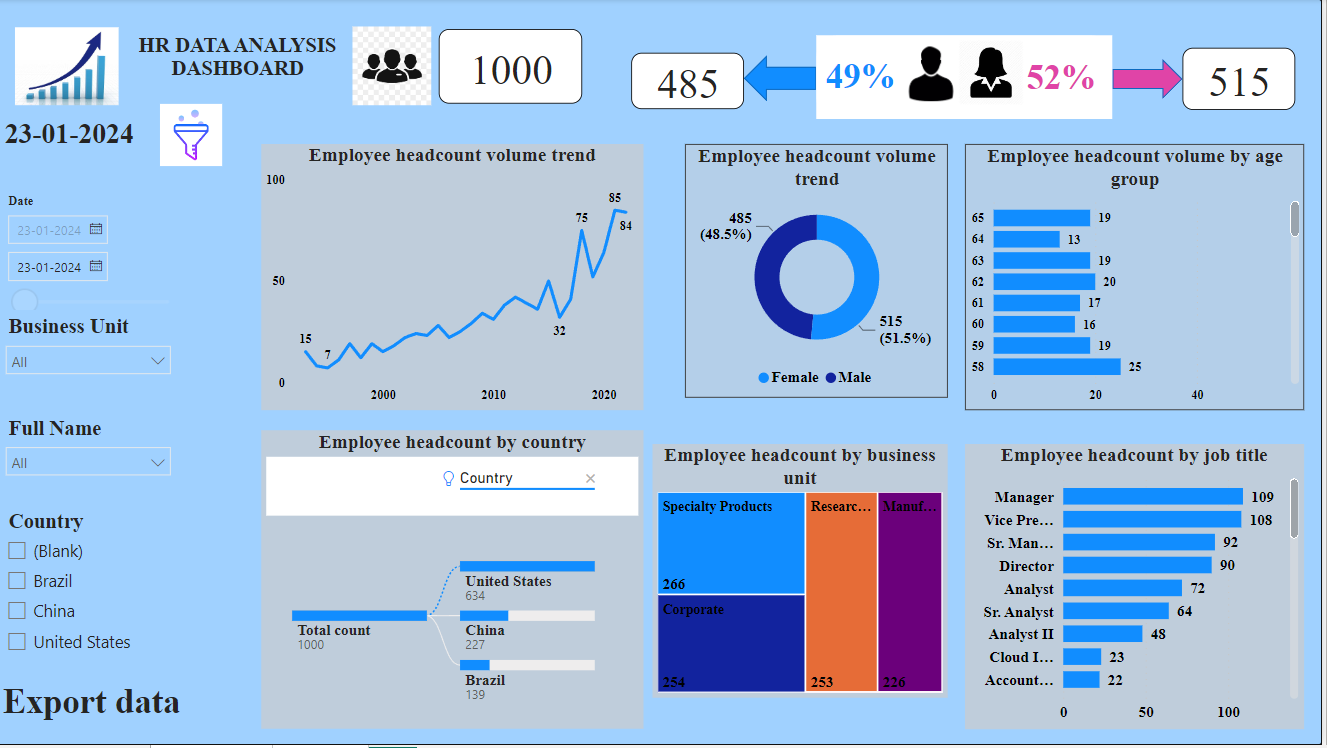

Layout of this report page (visuals, bound fields, positions):
{"tool":"powerbi","page":{"name":"hr analysis","canvas":[1280,720],"ordinal":0},"visuals":[{"type":"card","fields":{"Values":["Employee Data.total_count"]},"box":[428.1,28.9,138.7,72.4],"z":0},{"type":"image","box":[340.1,21.7,85.6,85.6],"z":1000},{"type":"lineChart","title":"Employee headcount volume trend","fields":{"Category":["Employee Data.Hire Date.Variation.Date Hierarchy.Year"],"Y":["CountNonNull(Employee Data.Employee ID)"]},"box":[256.9,139.9,369,256.9],"z":2000},{"type":"donutChart","title":"Employee headcount volume trend","fields":{"Category":["Employee Data.Gender"],"Y":["CountNonNull(Employee Data.Employee ID)"]},"box":[665.7,139.9,253.3,244.8],"z":3000},{"type":"clusteredBarChart","title":"Employee headcount volume by age group","fields":{"Category":["Employee Data.Age"],"Y":["CountNonNull(Employee Data.Employee ID)"]},"box":[935.9,139.9,326.8,256.9],"z":4000},{"type":"decompositionTreeVisual","title":"Employee headcount  by country","fields":{"Analyze":["CountNonNull(Employee Data.Country)"],"ExplainBy":["Employee Data.Country"]},"box":[256.9,416.1,369,288.2],"z":5000},{"type":"treemap","title":"Employee headcount  by business unit","fields":{"Group":["Employee Data.Business Unit"],"Values":["CountNonNull(Employee Data.Employee ID)"]},"box":[634.4,429.3,284.6,244.8],"z":6000},{"type":"clusteredBarChart","title":"Employee headcount  by job title","fields":{"Category":["Employee Data.Job Title"],"Y":["CountNonNull(Employee Data.Employee ID)"]},"box":[935.9,429.3,326.8,275],"z":7000},{"type":"shape","box":[792.4,35,285.8,80.8],"z":8000},{"type":"image","box":[869.5,41,66.3,62.7],"z":9000},{"type":"image","box":[925,32.6,72.4,77.2],"z":10000},{"type":"card","fields":{"Values":["Employee Data.total_male_count"]},"box":[613.9,51.9,108.5,54.3],"z":11000},{"type":"card","fields":{"Values":["Employee Data.Total_female_count"]},"box":[1145.7,47,108.5,60.3],"z":12000},{"type":"card","fields":{"Values":["Employee Data.male%"]},"box":[789.9,45.8,90.5,55.5],"z":13000},{"type":"card","fields":{"Values":["Employee Data.female%"]},"box":[979.3,51.9,98.9,45.8],"z":14000},{"type":"shape","title":"HR DATA ANALYSIS DASHBOARD","box":[113.4,33.8,241.2,54.3],"z":15000},{"type":"image","box":[14.5,12.1,109.7,106.1],"z":16000},{"type":"shape","box":[722.4,54.3,69.9,44.6],"z":17000},{"type":"shape","box":[1078.2,57.9,67.5,38.6],"z":18000},{"type":"slicer","fields":{"Values":["Employee Data.Business Unit"]},"box":[0,300.3,179.7,84.4],"z":19000},{"type":"slicer","fields":{"Values":["Employee Data.Country"]},"box":[0,488.4,189.3,156.8],"z":20000},{"type":"slicer","fields":{"Values":["Employee Data.Full Name"]},"box":[0,398,179.7,90.5],"z":21000},{"type":"card","fields":{"Values":["Min(Query1.Date)"]},"box":[0,106.1,143.5,47],"z":22000},{"type":"image","box":[154.4,79.6,69.9,103.7],"z":23000},{"type":"slicer","fields":{"Values":["Query1.Date"]},"box":[0,183.3,189.3,117],"z":24000},{"type":"tableEx","title":"Export data","fields":{"Values":["Employee Data.Full Name","Employee Data.Employee ID","Employee Data.Gender"]},"box":[2.4,658.5,223.1,45.8],"z":25000}]}

Visuals, with their boxes in screenshot pixels (x1, y1, x2, y2), scaled from the page's 1280x720 canvas onto the 1327x748 screenshot:
card - Employee Data.total_count: BBox(444, 30, 588, 105)
image: BBox(353, 23, 441, 111)
"Employee headcount volume trend" lineChart: BBox(266, 145, 649, 412)
"Employee headcount volume trend" donutChart: BBox(690, 145, 953, 400)
"Employee headcount volume by age group" clusteredBarChart: BBox(970, 145, 1309, 412)
"Employee headcount  by country" decompositionTreeVisual: BBox(266, 432, 649, 732)
"Employee headcount  by business unit" treemap: BBox(658, 446, 953, 700)
"Employee headcount  by job title" clusteredBarChart: BBox(970, 446, 1309, 732)
shape: BBox(821, 36, 1118, 120)
image: BBox(901, 43, 970, 108)
image: BBox(959, 34, 1034, 114)
card - Employee Data.total_male_count: BBox(636, 54, 749, 110)
card - Employee Data.Total_female_count: BBox(1188, 49, 1300, 111)
card - Employee Data.male%: BBox(819, 48, 913, 105)
card - Employee Data.female%: BBox(1015, 54, 1118, 101)
"HR DATA ANALYSIS DASHBOARD" shape: BBox(118, 35, 368, 92)
image: BBox(15, 13, 129, 123)
shape: BBox(749, 56, 821, 103)
shape: BBox(1118, 60, 1188, 100)
slicer - Employee Data.Business Unit: BBox(0, 312, 186, 400)
slicer - Employee Data.Country: BBox(0, 507, 196, 670)
slicer - Employee Data.Full Name: BBox(0, 413, 186, 507)
card - Min(Query1.Date): BBox(0, 110, 149, 159)
image: BBox(160, 83, 233, 190)
slicer - Query1.Date: BBox(0, 190, 196, 312)
"Export data" tableEx: BBox(2, 684, 234, 732)
